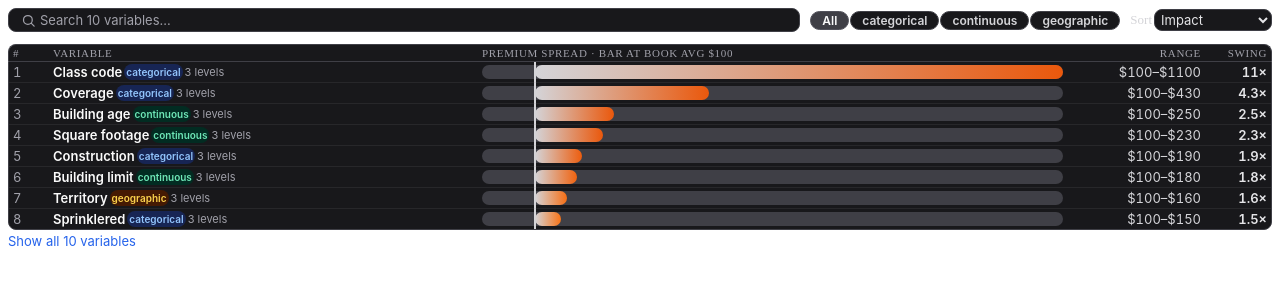
Test: <RateDriversList> › expands to show all variables, including the flat one
Click the button with test id "rater-rate-drivers-show-all": (72, 241) top-left (8, 232), bottom-right (136, 250)
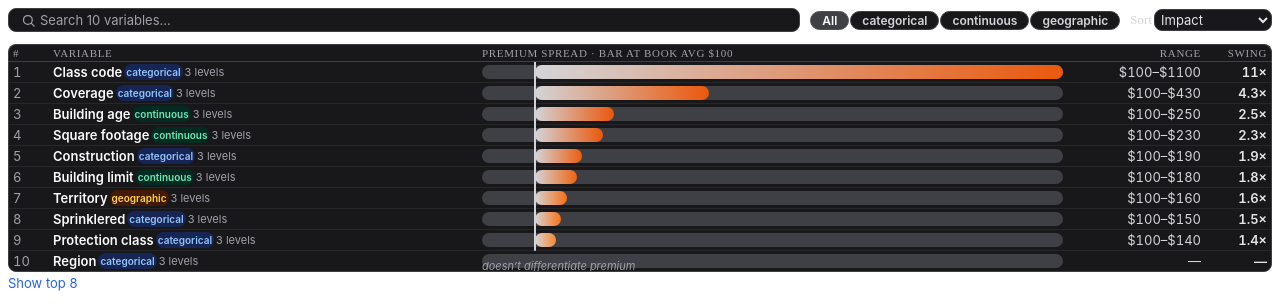
Expected: the button with test id "rater-rate-drivers-row-prot" is shown, top-left (9, 229), bottom-right (1271, 250)
Expected: the button with test id "rater-rate-drivers-row-region" shows "differentiate premium", top-left (9, 250), bottom-right (1271, 271)
